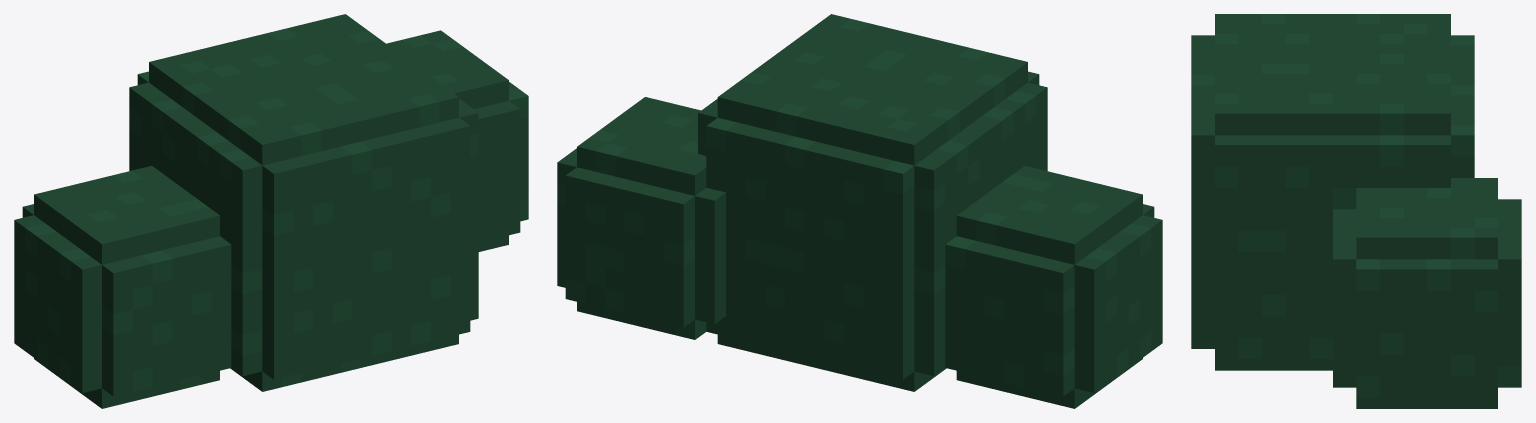
The model's file is arbusto2.obj.
3 views of the same model, side by side, from view 1: azimuth 30°, elevation 25°; view 2: azimuth 150°, elevation 25°; view 3: azimuth 270°, elevation 25° (orthographic). The views are drawn at different scales.
Bounding box in the file's own units: 2.5 × 1.2 × 1.4.
1 material, 1 textured.
